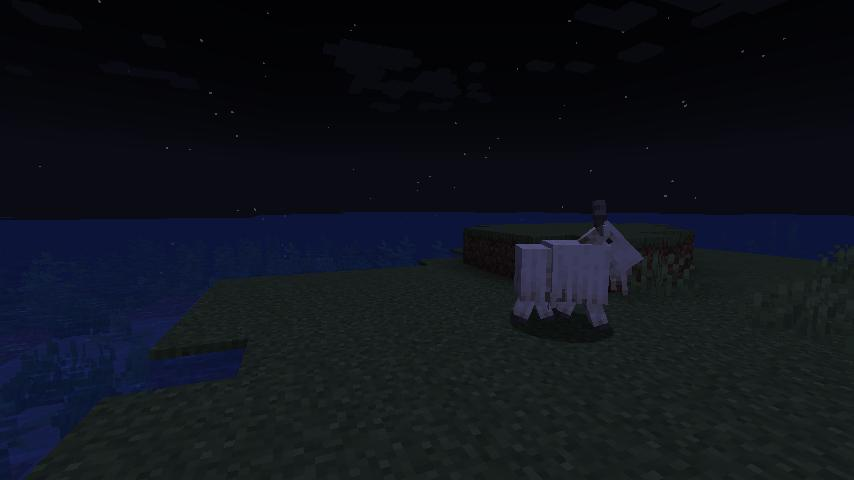goat: (515, 198, 642, 329)
